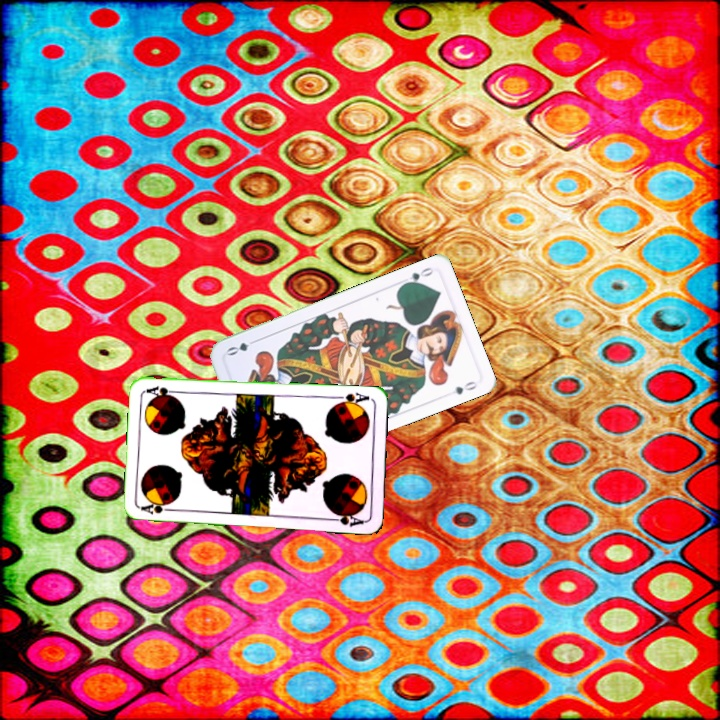GO: (399, 263, 437, 288)
SA: (332, 389, 372, 409), (138, 499, 178, 517)
